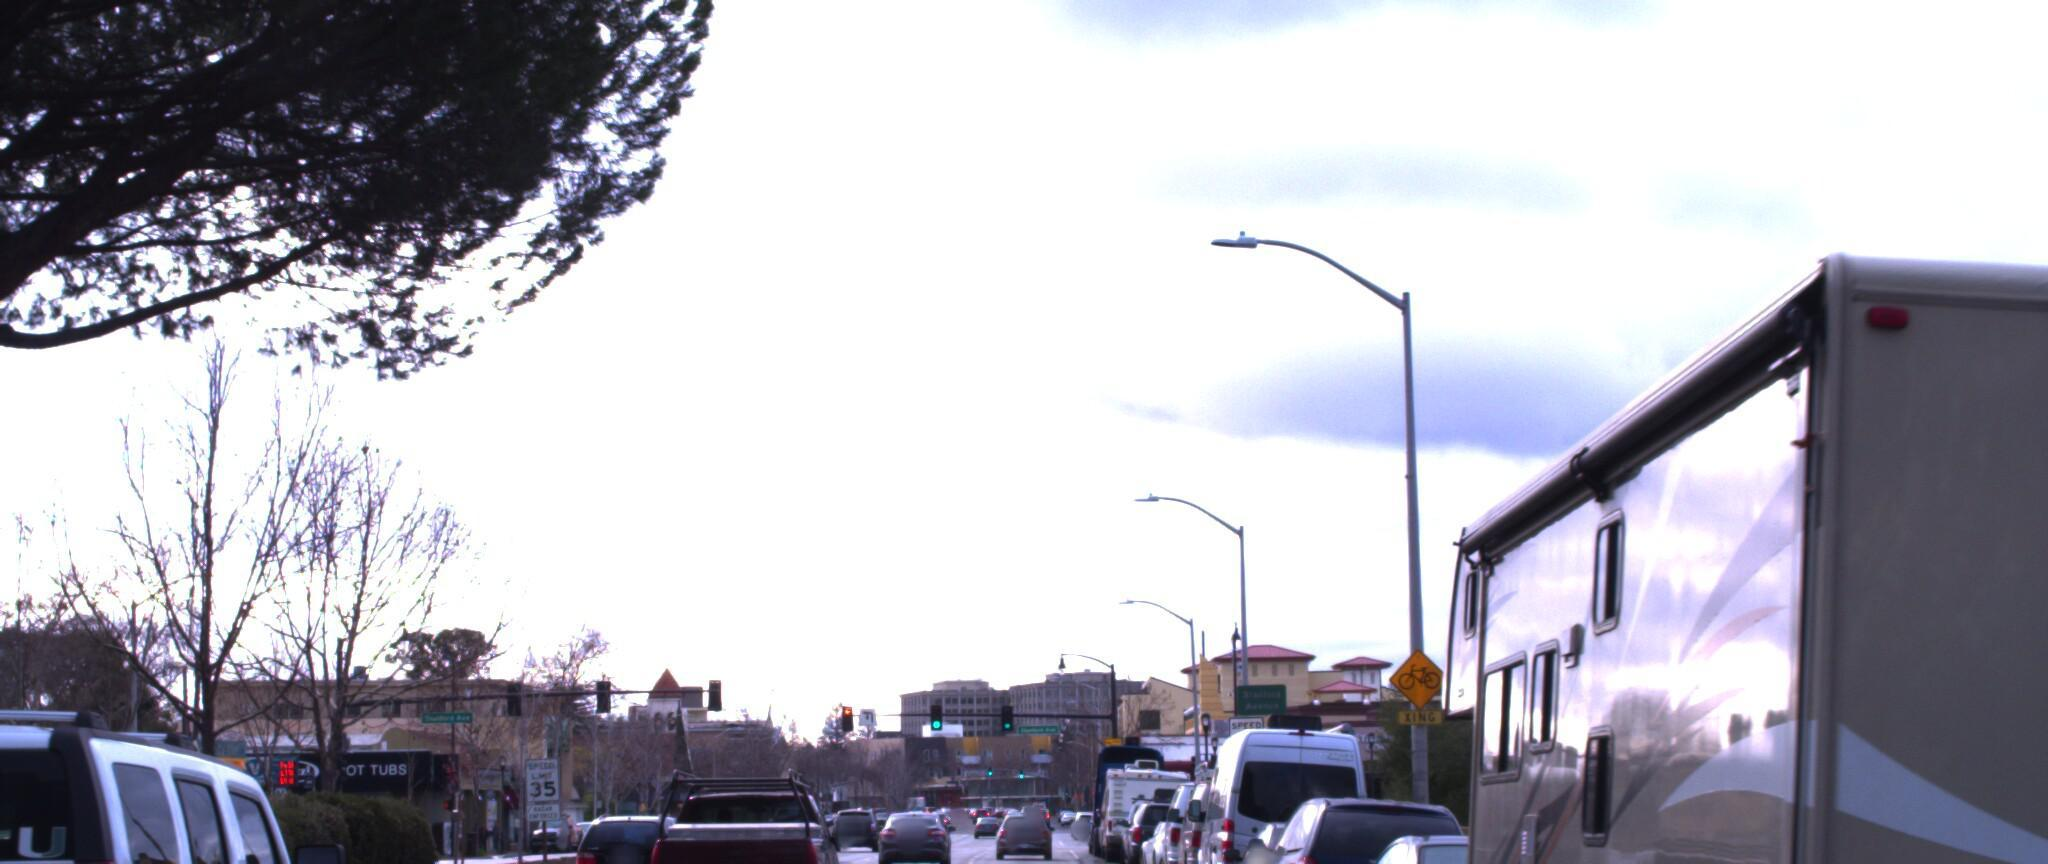car: (0, 689, 401, 864), (1199, 700, 1390, 864), (1391, 814, 1829, 864), (649, 760, 856, 864), (1251, 783, 1490, 864), (1317, 817, 1620, 864), (876, 797, 953, 864)
other_vehicle: (1390, 161, 2048, 864)
